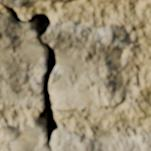brick: (0, 0, 38, 6), (48, 0, 66, 1)
broken_brick: (44, 21, 131, 110), (0, 15, 44, 109), (2, 124, 150, 150)
crack: (0, 2, 59, 148)
